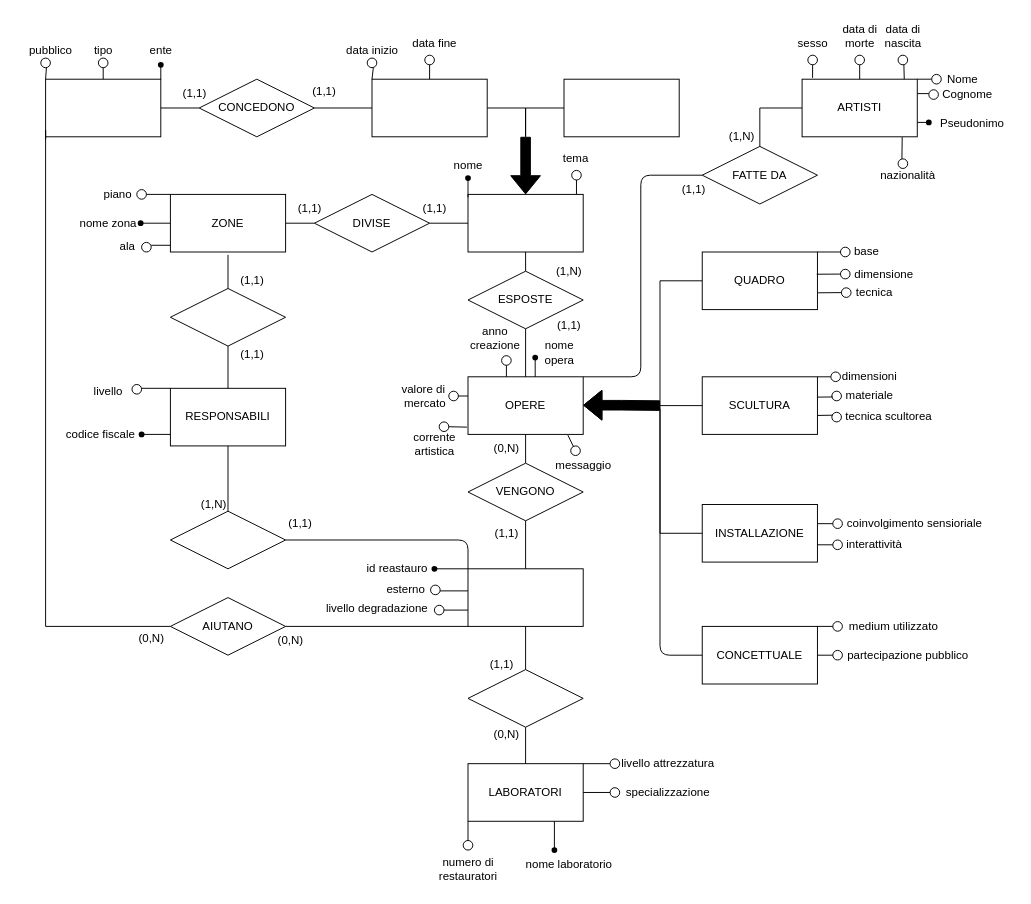
This 1031x904 diagram has some shape labels left out. The centre of each missing label's shape, as x and y in pixels:
"COLLABORAZIONI" goes at point 103,107.
"COORDINANO" goes at point 227,539.
"HANNO" goes at point 227,317.
"IN" goes at point 525,698.
"MOSTRE" goes at point 525,222.
"PERMANENTI" goes at point 621,107.
"RESTAURI" goes at point 525,597.
"TEMPORANEE" goes at point 429,107.
